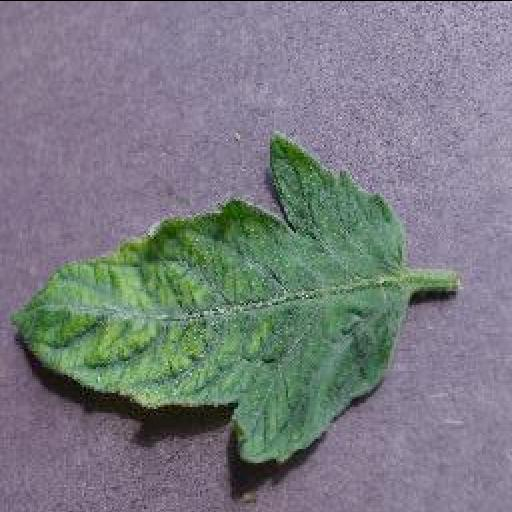Mosaic Virus: (9, 129, 411, 463)
